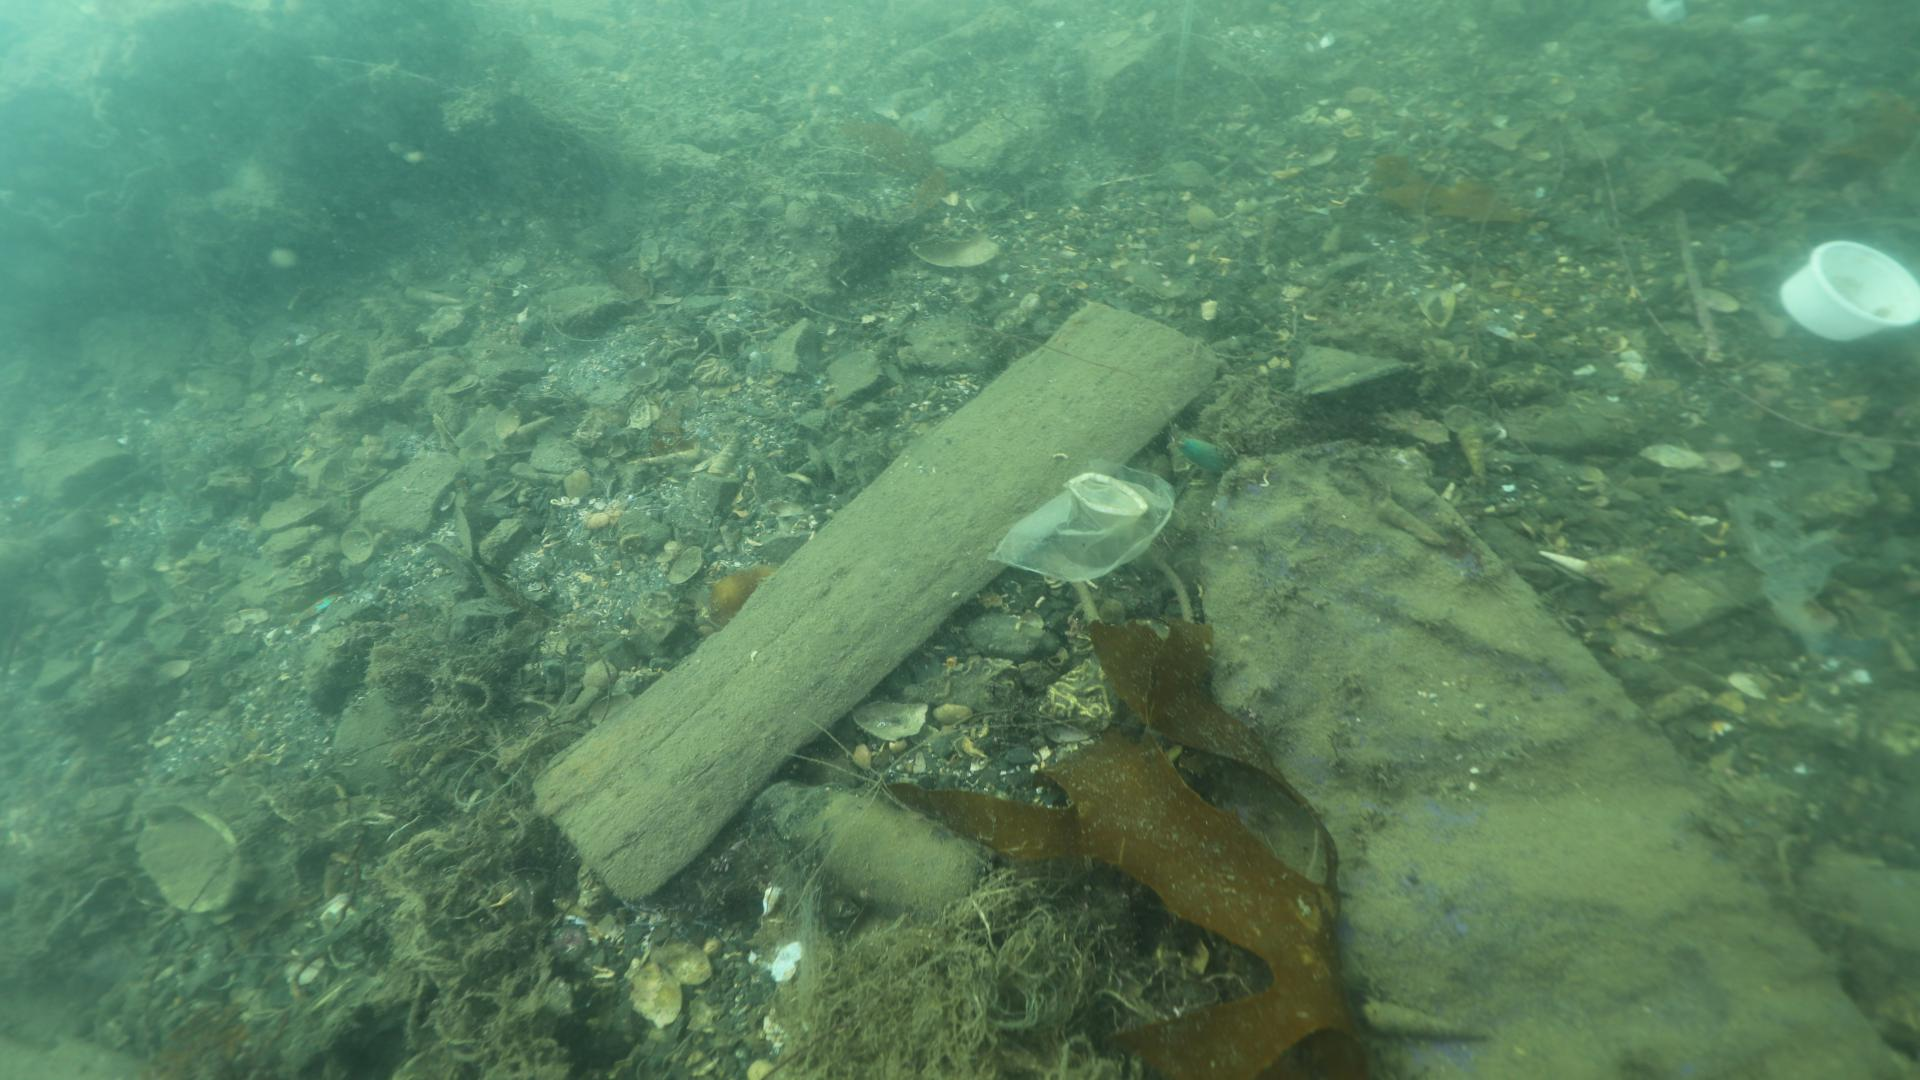wood: (529, 299, 1226, 909)
